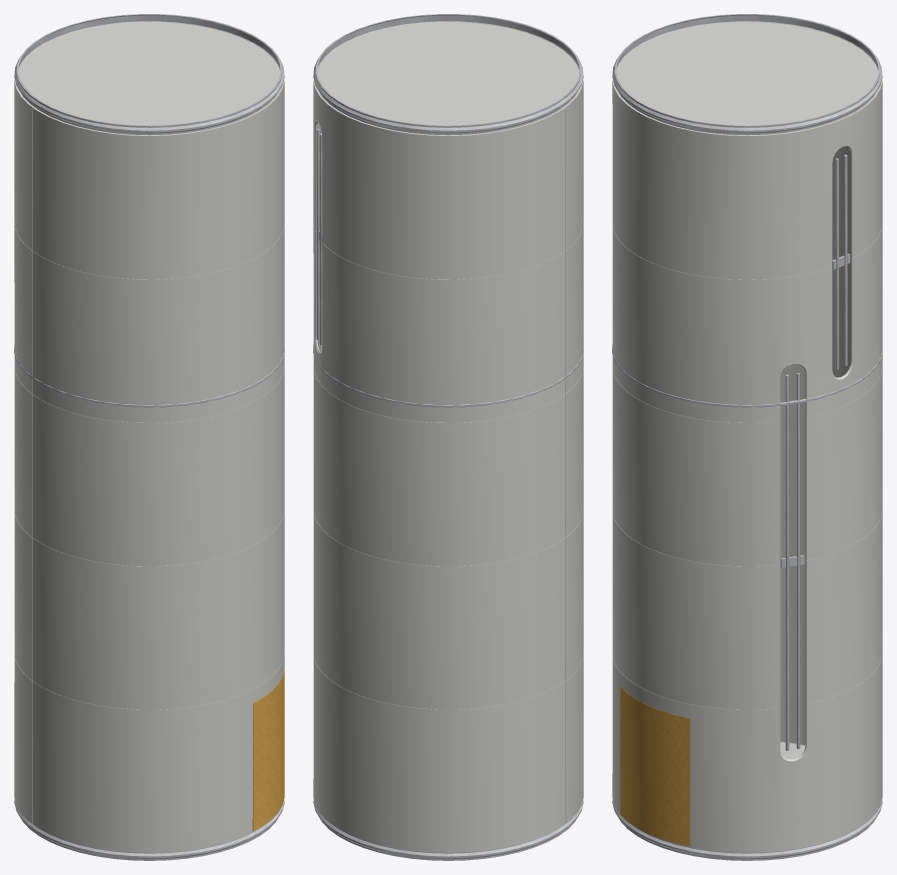
The model's file is ax_tank_03_heavy_methalox_xxl_long.glb.
3 views of the same model, side by side, from view 1: azimuth 30°, elevation 25°; view 2: azimuth 150°, elevation 25°; view 3: azimuth 270°, elevation 25° (orthographic).
Visible parts, largest first — view 1: tank_barrel, dome_caps, end_rings, mli_patch, common_bulkhead_ring; view 2: tank_barrel, dome_caps, end_rings, raceway_lines, common_bulkhead_ring; view 3: tank_barrel, dome_caps, mli_patch, end_rings, raceway_lines, common_bulkhead_ring.
Part boxes in pixels (x1=…): tank_barrel: x1=14, y1=79, x2=284, y2=852; dome_caps: x1=18, y1=22, x2=280, y2=852; end_rings: x1=14, y1=14, x2=284, y2=860; mli_patch: x1=252, y1=669, x2=284, y2=831; common_bulkhead_ring: x1=14, y1=345, x2=284, y2=407; tank_barrel: x1=313, y1=79, x2=583, y2=852; dome_caps: x1=317, y1=22, x2=579, y2=852; end_rings: x1=313, y1=14, x2=583, y2=860; raceway_lines: x1=316, y1=129, x2=322, y2=351; common_bulkhead_ring: x1=313, y1=345, x2=583, y2=407; tank_barrel: x1=612, y1=79, x2=882, y2=852; dome_caps: x1=616, y1=22, x2=878, y2=850; mli_patch: x1=620, y1=686, x2=690, y2=846; end_rings: x1=612, y1=14, x2=882, y2=860; raceway_lines: x1=780, y1=154, x2=850, y2=750; common_bulkhead_ring: x1=612, y1=345, x2=882, y2=407.
Size of the model in its own units: 7.51 by 22.5 by 7.52.
Materials: 3 (2 with a texture image).
